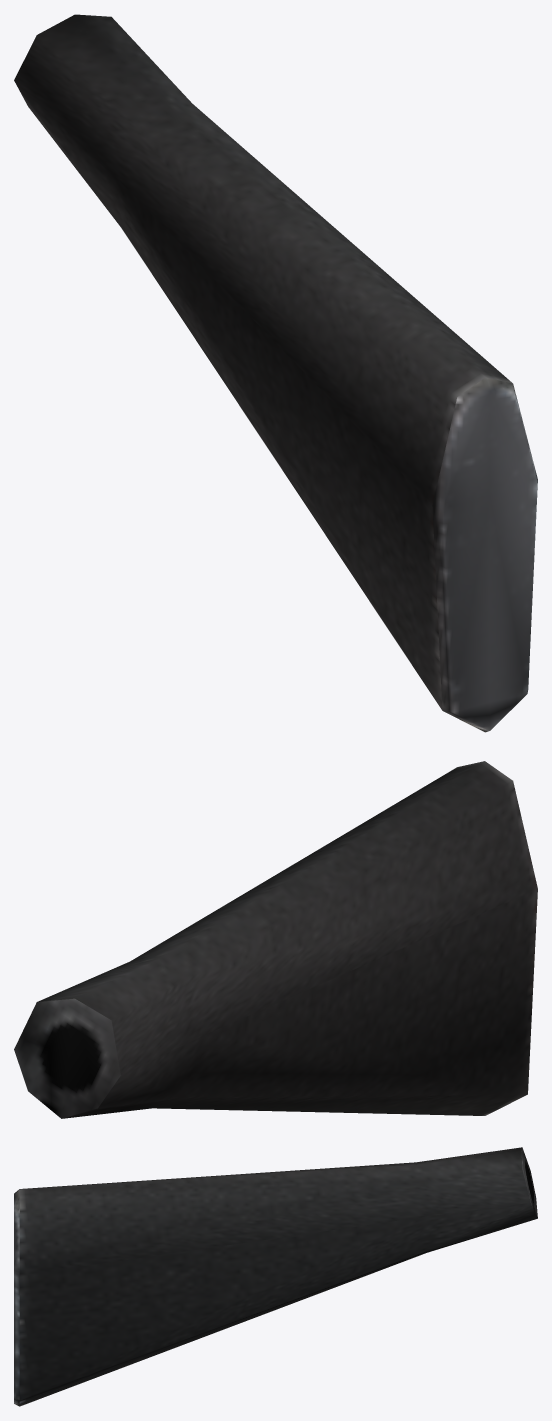
The model's file is Stock.fbx.
The picture shows the model from 3 angles, top to bottom: view 1: azimuth 30°, elevation 25°; view 2: azimuth 150°, elevation 25°; view 3: azimuth 270°, elevation 25°; orthographic projection. The views are drawn at different scales.
Parts seen in each view (by area): view 1: Mossberg_Plastic.001; view 2: Mossberg_Plastic.001; view 3: Mossberg_Plastic.001.
Part boxes in pixels (<box>): Mossberg_Plastic.001: <box>14,14,537,732</box>; Mossberg_Plastic.001: <box>14,761,537,1118</box>; Mossberg_Plastic.001: <box>14,1147,537,1406</box>.
Size of the model in its own units: 0.0236 by 0.1638 by 0.0881.
